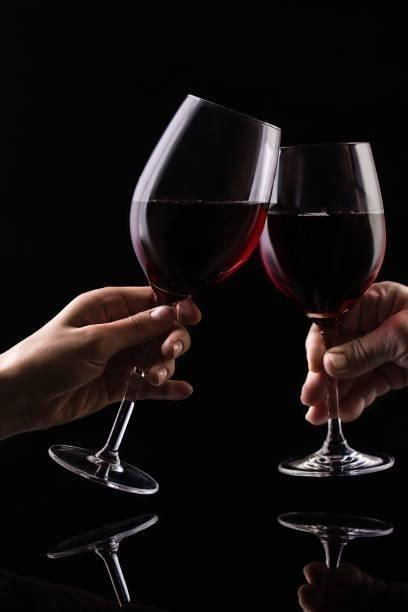glass-wine: (46, 91, 281, 494), (260, 140, 394, 476)
